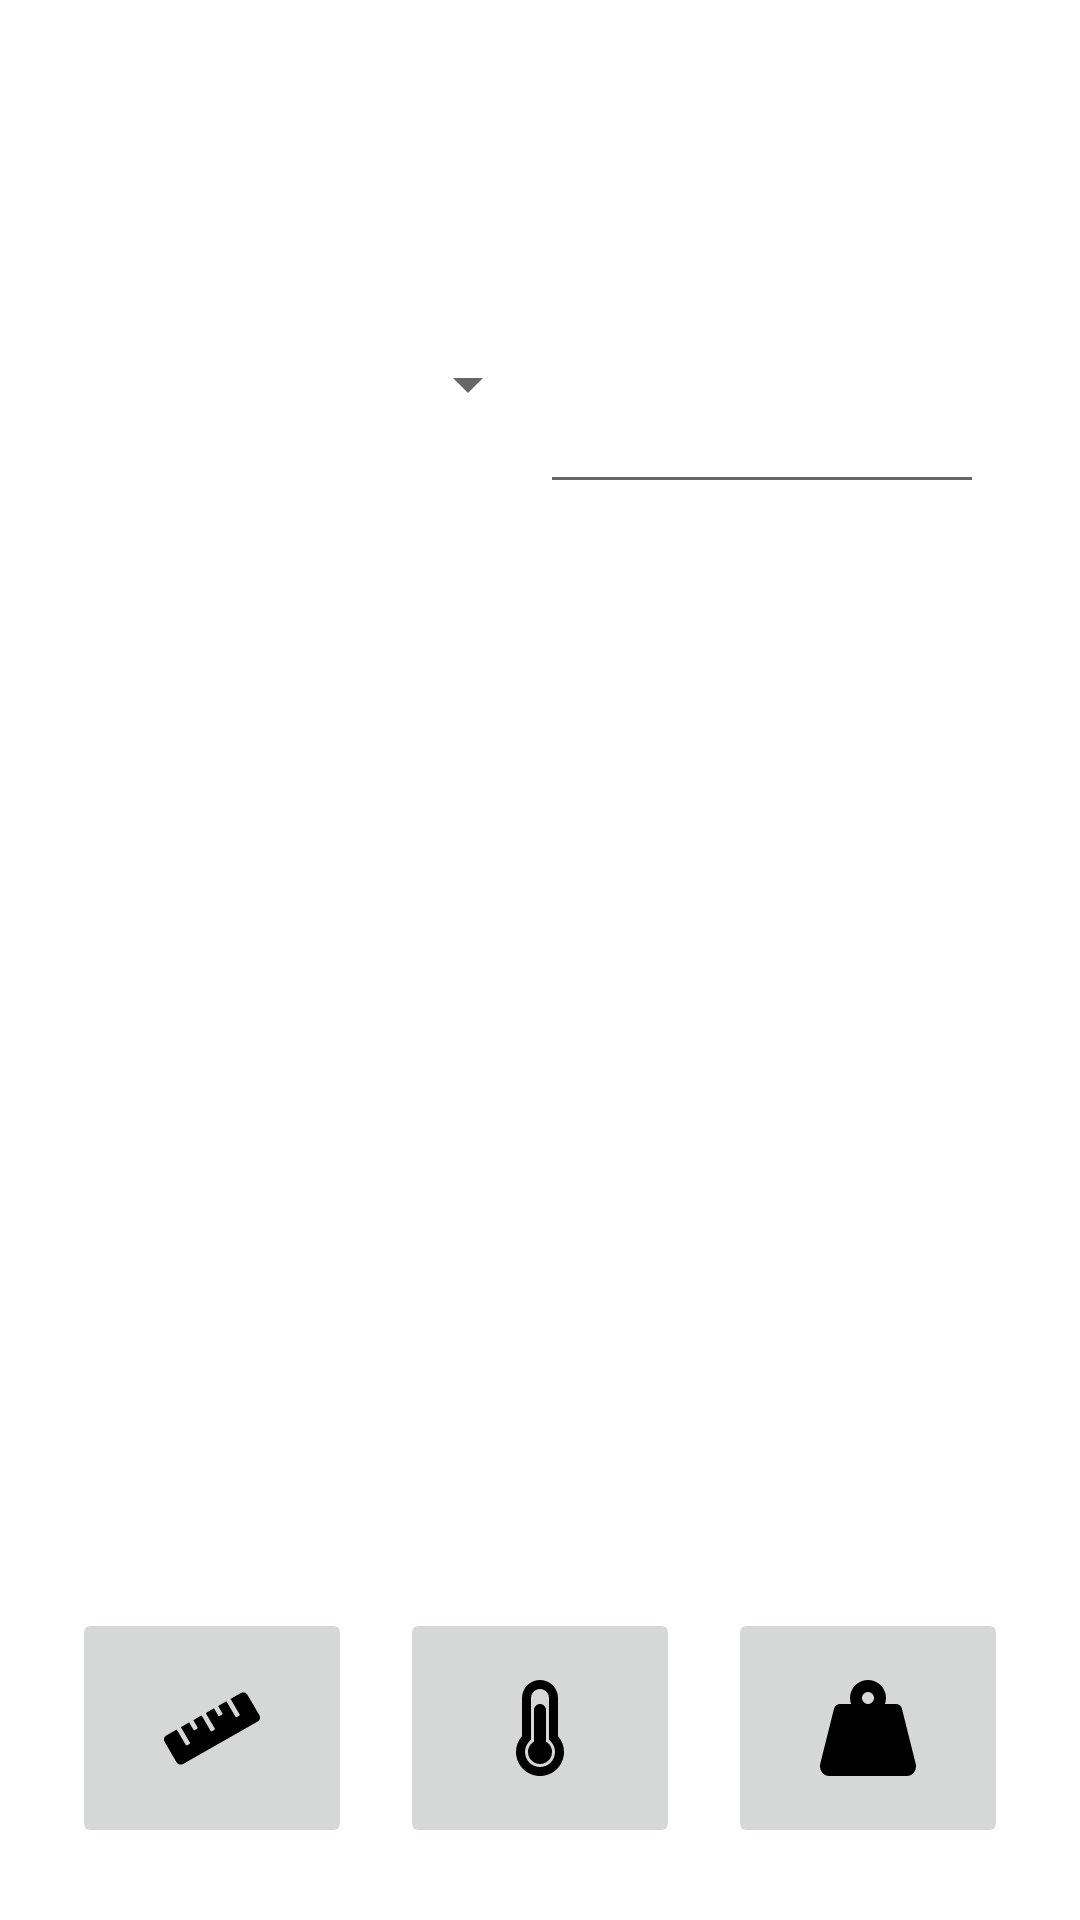

Icons on this 1080px×1920px Android screen, each with its box as (x1, y1, x2, y2):
ruler: (84, 1626, 340, 1830)
thermometer: (412, 1626, 668, 1830)
weight: (740, 1626, 996, 1830)
